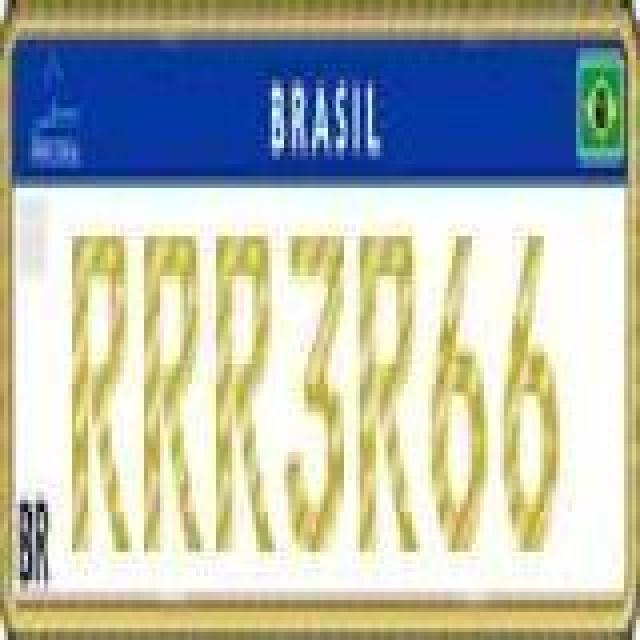3: (280, 230, 344, 554)
6: (496, 220, 560, 556), (424, 230, 488, 554)
R: (72, 230, 136, 554), (144, 230, 208, 554), (212, 230, 276, 554), (356, 230, 420, 554)
